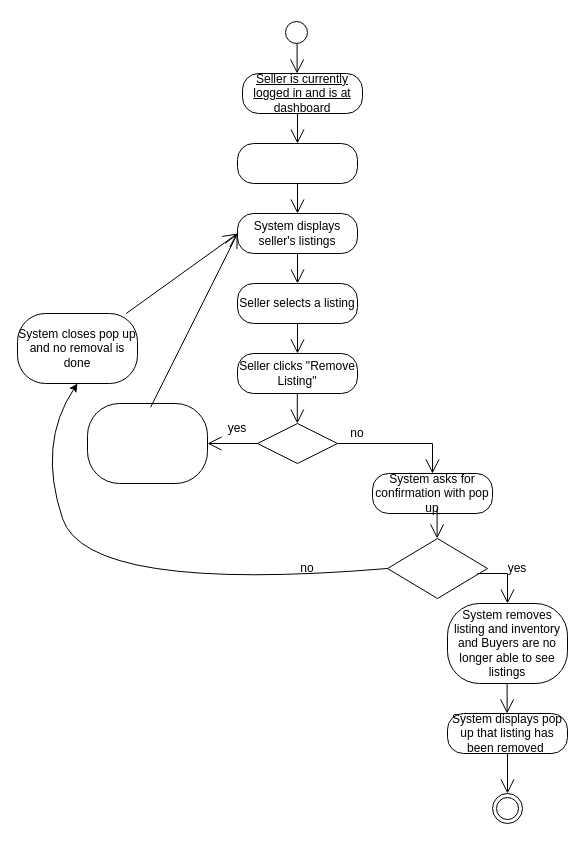
The diagram is 585 pixels wide and 841 high, and some of its shapes have lost their labels. Each missing label, with the centre of its shape:
Does Seller confirm?: (x=437, y=568)
Is there a pending order attached?: (x=297, y=443)
Seller clicks "View My Listing": (x=297, y=163)
System informs user that a pending order is attached and cannot be removed: (x=147, y=443)
